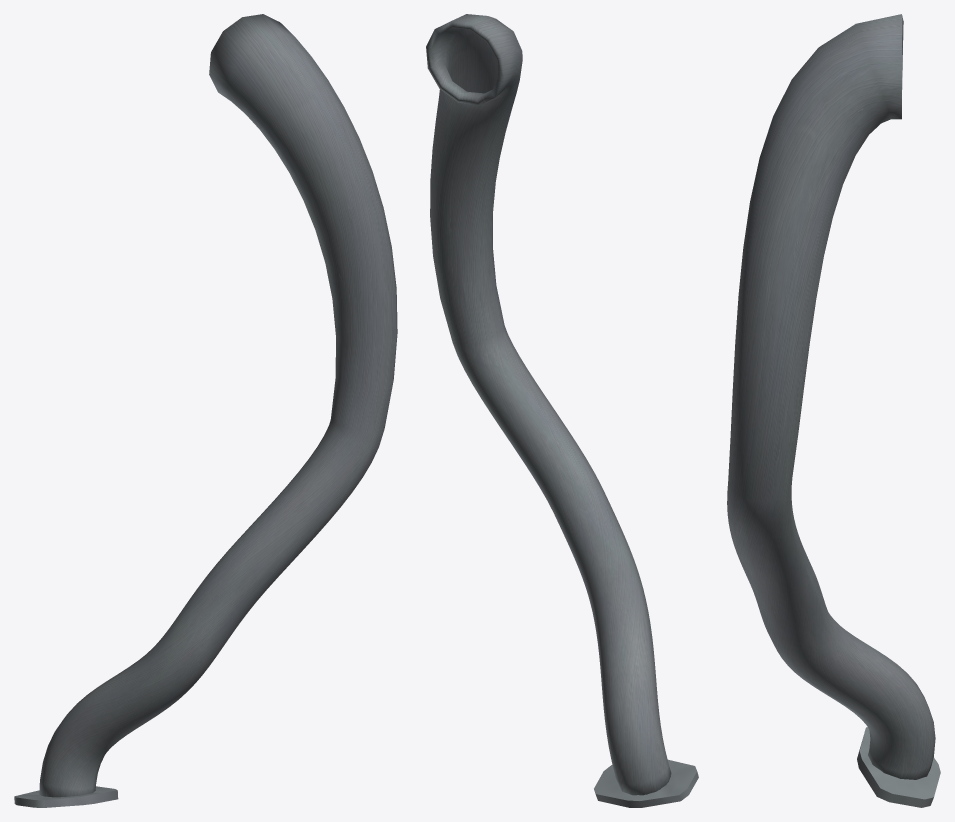
File: TurboCharger_Big_Exhaust_Outlet_Pipe.obj
3 views of the same model, side by side, from view 1: azimuth 30°, elevation 25°; view 2: azimuth 150°, elevation 25°; view 3: azimuth 270°, elevation 25° (orthographic). The views are drawn at different scales.
Parts seen in each view (by area): view 1: Exhaust_Outlet_Tube_BezierCurve.014, Exhaust-Connector_motor_racing_exhaust_manifold_001-sharedassets; view 2: Exhaust_Outlet_Tube_BezierCurve.014, Exhaust-Connector_motor_racing_exhaust_manifold_001-sharedassets; view 3: Exhaust_Outlet_Tube_BezierCurve.014, Exhaust-Connector_motor_racing_exhaust_manifold_001-sharedassets.
Part boxes in pixels (<box>): Exhaust_Outlet_Tube_BezierCurve.014: <box>39,14,397,797</box>; Exhaust-Connector_motor_racing_exhaust_manifold_001-sharedassets: <box>14,786,118,807</box>; Exhaust_Outlet_Tube_BezierCurve.014: <box>426,14,671,795</box>; Exhaust-Connector_motor_racing_exhaust_manifold_001-sharedassets: <box>594,759,698,807</box>; Exhaust_Outlet_Tube_BezierCurve.014: <box>727,14,935,779</box>; Exhaust-Connector_motor_racing_exhaust_manifold_001-sharedassets: <box>857,727,940,807</box>.
Bounding box in the file's own units: 0.2735 × 0.618 × 0.1373.
